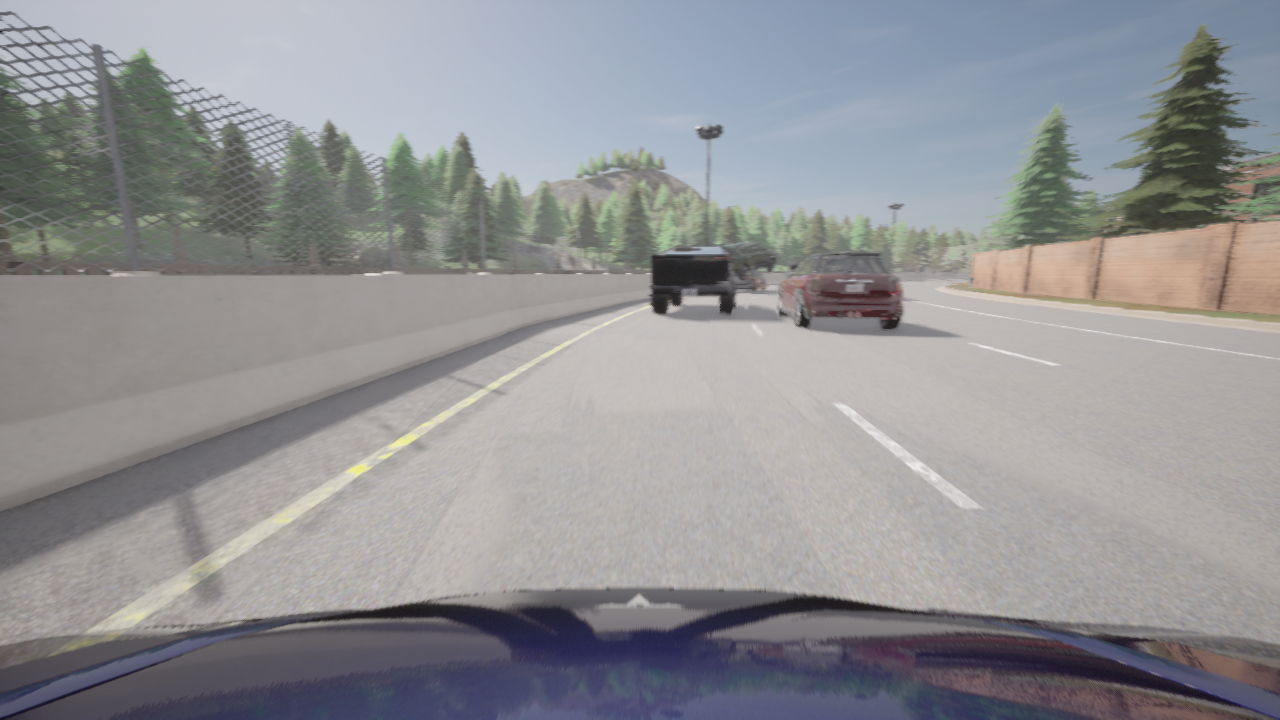cyclist: (0, 588, 1279, 719), (777, 247, 902, 329), (650, 246, 736, 314), (721, 242, 776, 280), (732, 270, 765, 291), (788, 263, 800, 273)
